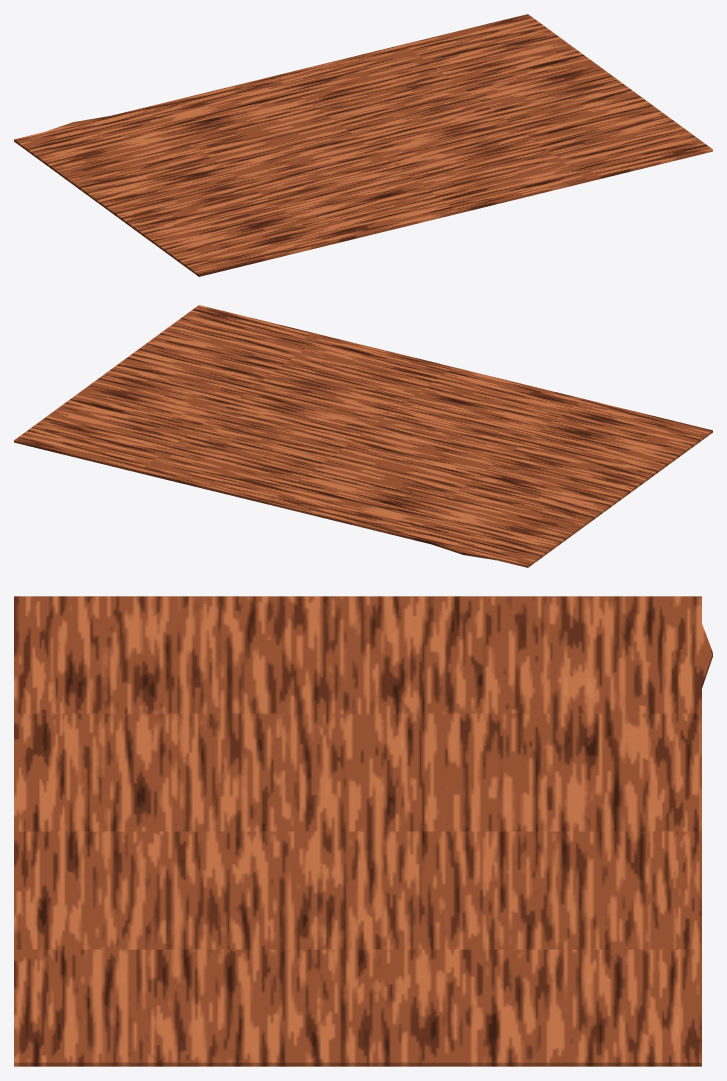
Rendered from floor4.fbx.
3 views of the same model, one above another, from view 1: azimuth 30°, elevation 25°; view 2: azimuth 150°, elevation 25°; view 3: azimuth 270°, elevation 25° (orthographic). The views are drawn at different scales.
Parts seen in each view (by area): view 1: Truck_Floor; view 2: Truck_Floor; view 3: Truck_Floor.
Boxes of the visible parts, x1=… form: Truck_Floor: x1=14, y1=14, x2=712, y2=276; Truck_Floor: x1=14, y1=305, x2=712, y2=567; Truck_Floor: x1=14, y1=596, x2=712, y2=1066.
Size of the model in its own units: 795 by 3.16 by 504.
1 material, 1 textured.
